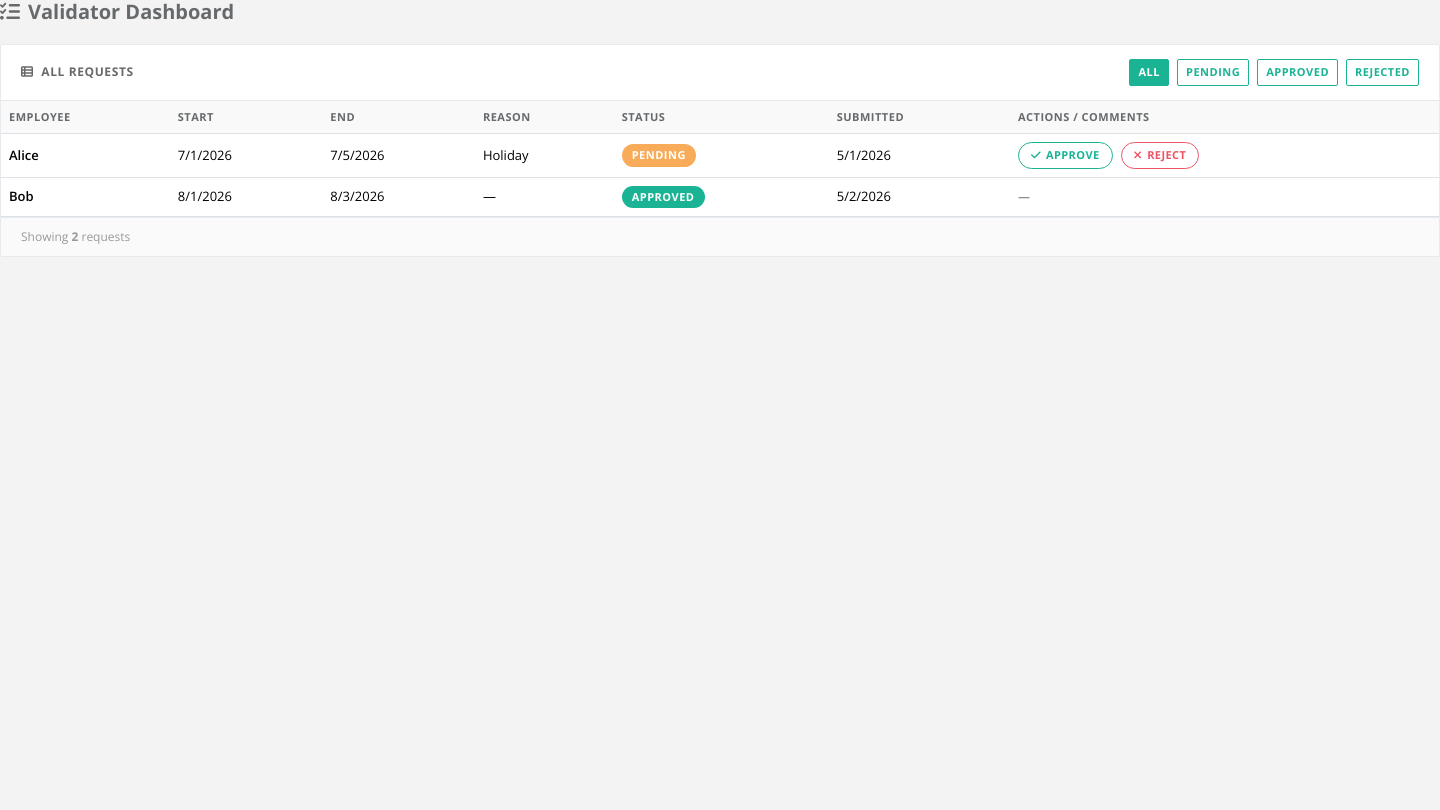
ValidatorView › opens reject modal when Reject button clicked
This screenshot has width=1440, height=810.
Click the button with class "btn-action-reject" at (1160, 155), box [1120, 142, 1199, 168]
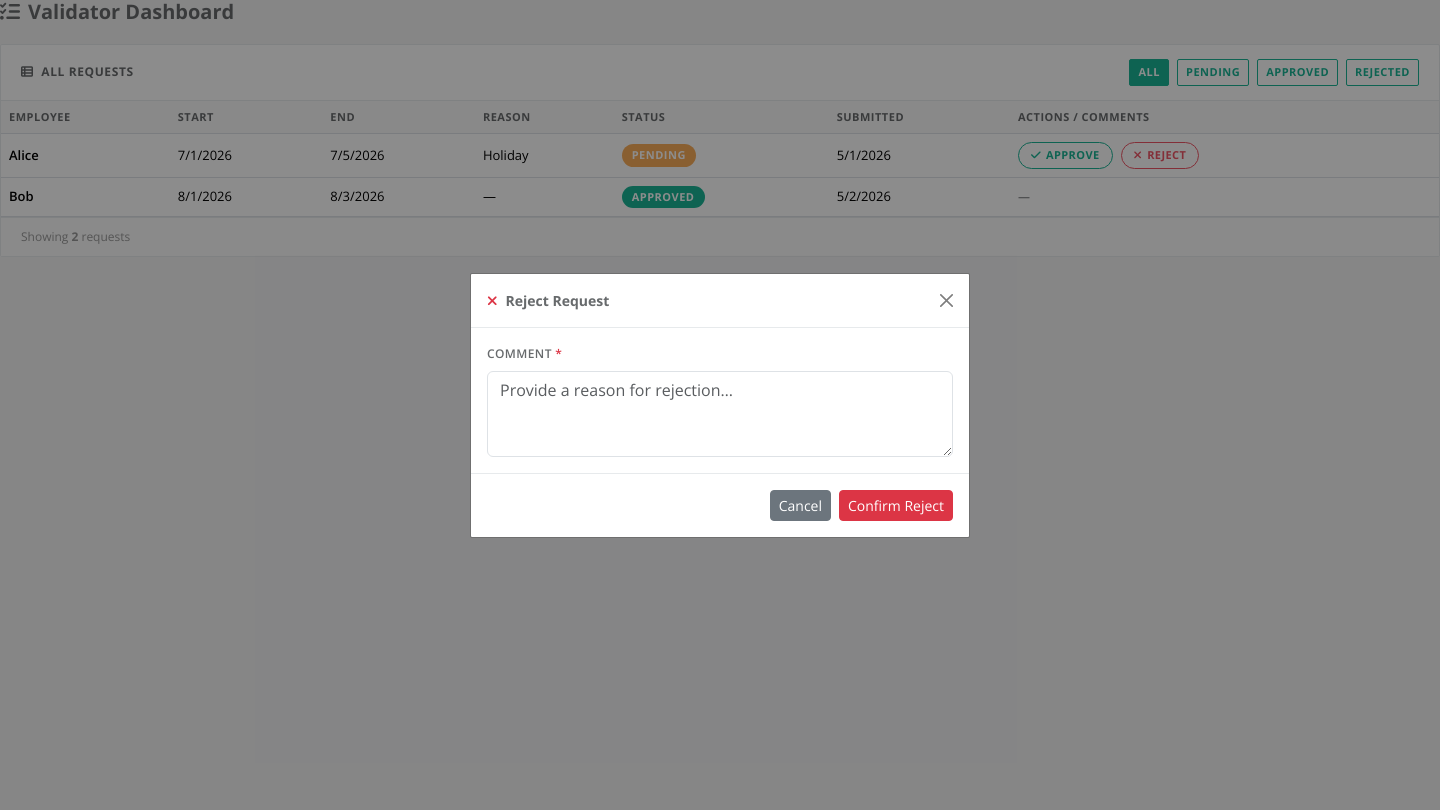
Expected: the element with class "modal" is shown
